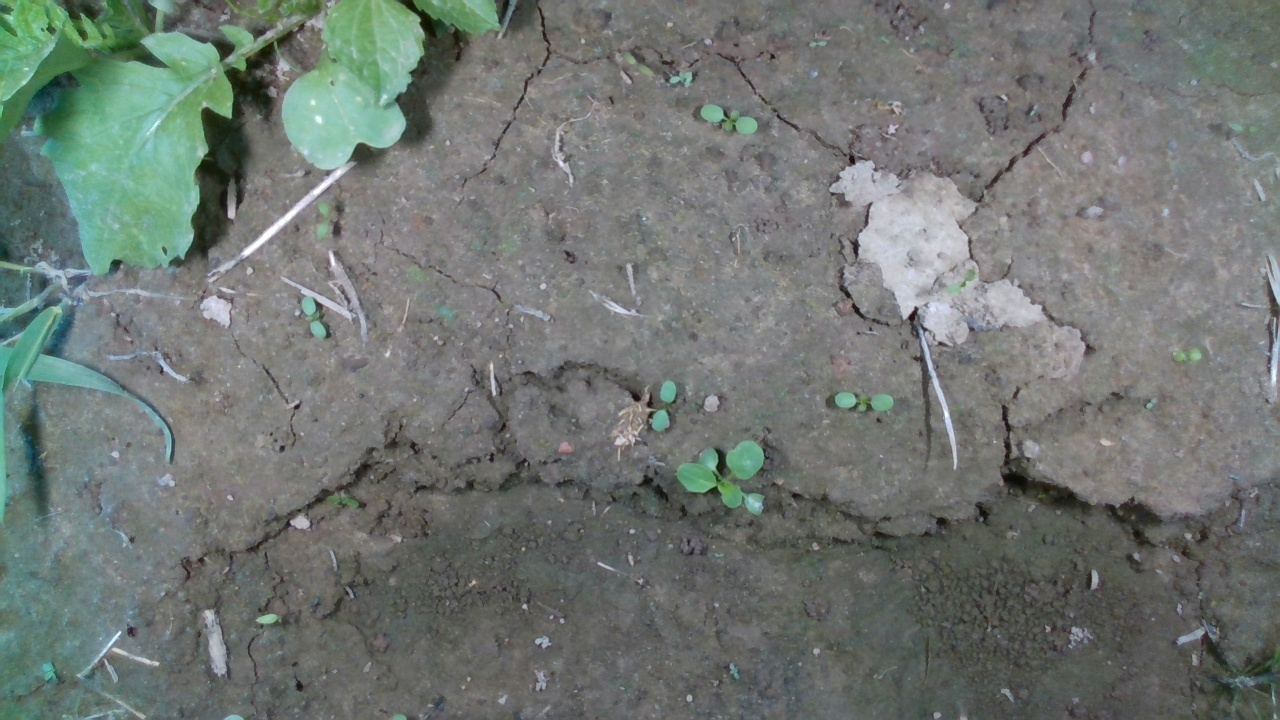weed: (833, 390, 894, 413)
